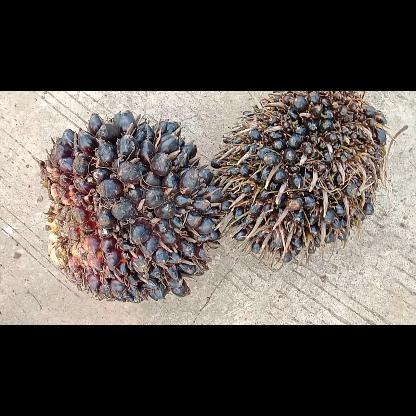TBS mentah: (36, 107, 224, 303), (206, 91, 394, 263)
